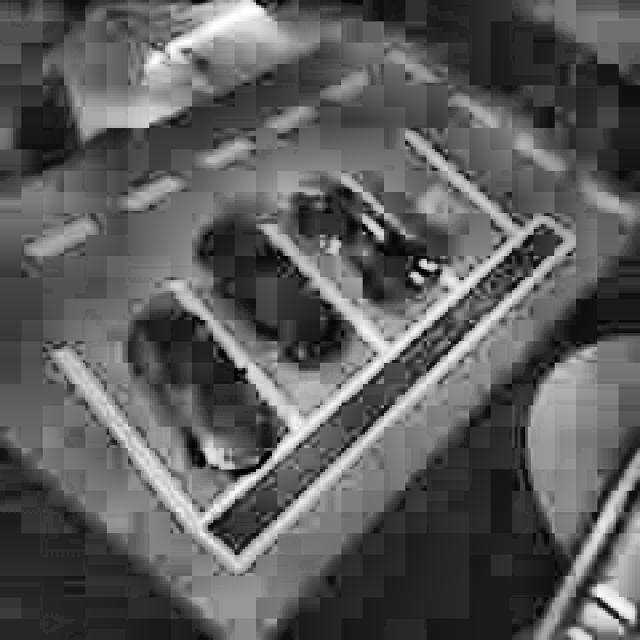car: (115, 298, 286, 489), (189, 199, 349, 374), (282, 153, 444, 324)
